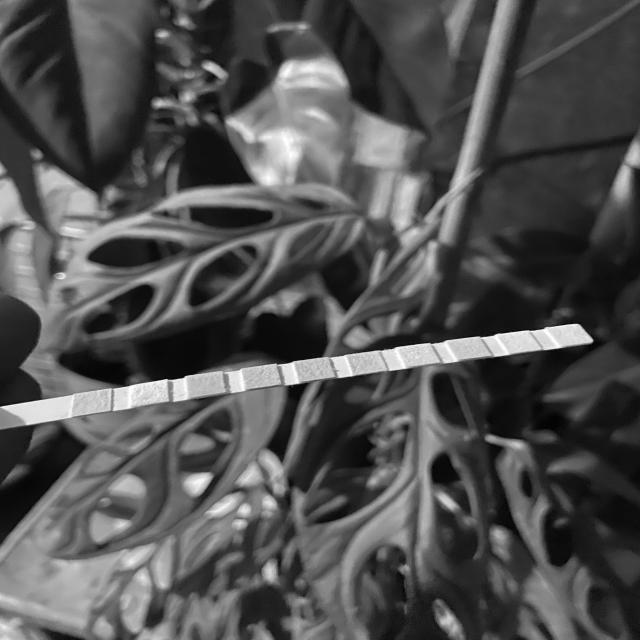Bilirubin: (132, 384, 166, 402)
Blood: (300, 362, 330, 378)
Glucose: (74, 394, 109, 411)
Ketone: (190, 376, 221, 393)
Leukocytes: (559, 326, 582, 344)
Nitrite: (506, 334, 530, 352)
Protein: (406, 346, 431, 363)
SpGravity: (246, 368, 276, 386)
Urobilinogen: (458, 340, 482, 358)
background: (0, 0, 640, 640)
pH: (352, 355, 380, 371)
strip: (0, 323, 594, 430)
